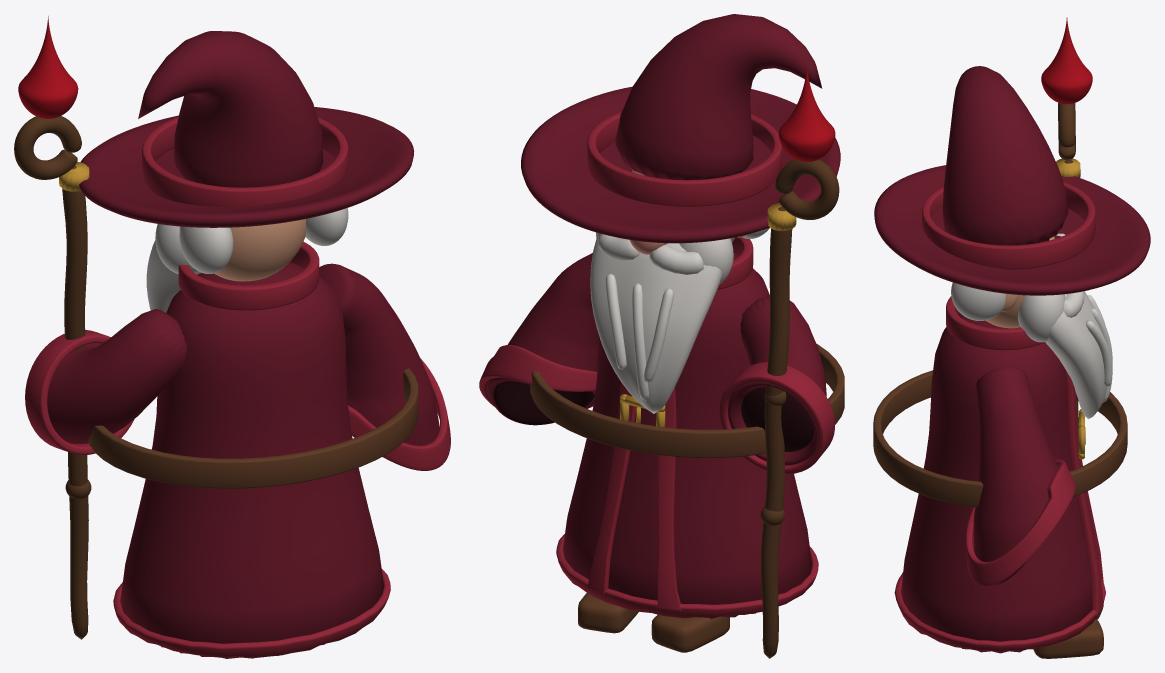
The model's file is bloodmage_detail.glb.
3 views of the same model, side by side, from view 1: azimuth 30°, elevation 25°; view 2: azimuth 150°, elevation 25°; view 3: azimuth 270°, elevation 25° (orthographic). The views are drawn at different scales.
Visible parts, largest first — view 1: Detail; view 2: Detail; view 3: Detail.
Boxes of the visible parts, x1,y1,x2,y2 form: Detail: (14,16,450,658); Detail: (479,14,844,658); Detail: (873,17,1150,658).
Size of the model in its own units: 0.7434 by 1.13 by 0.519.
